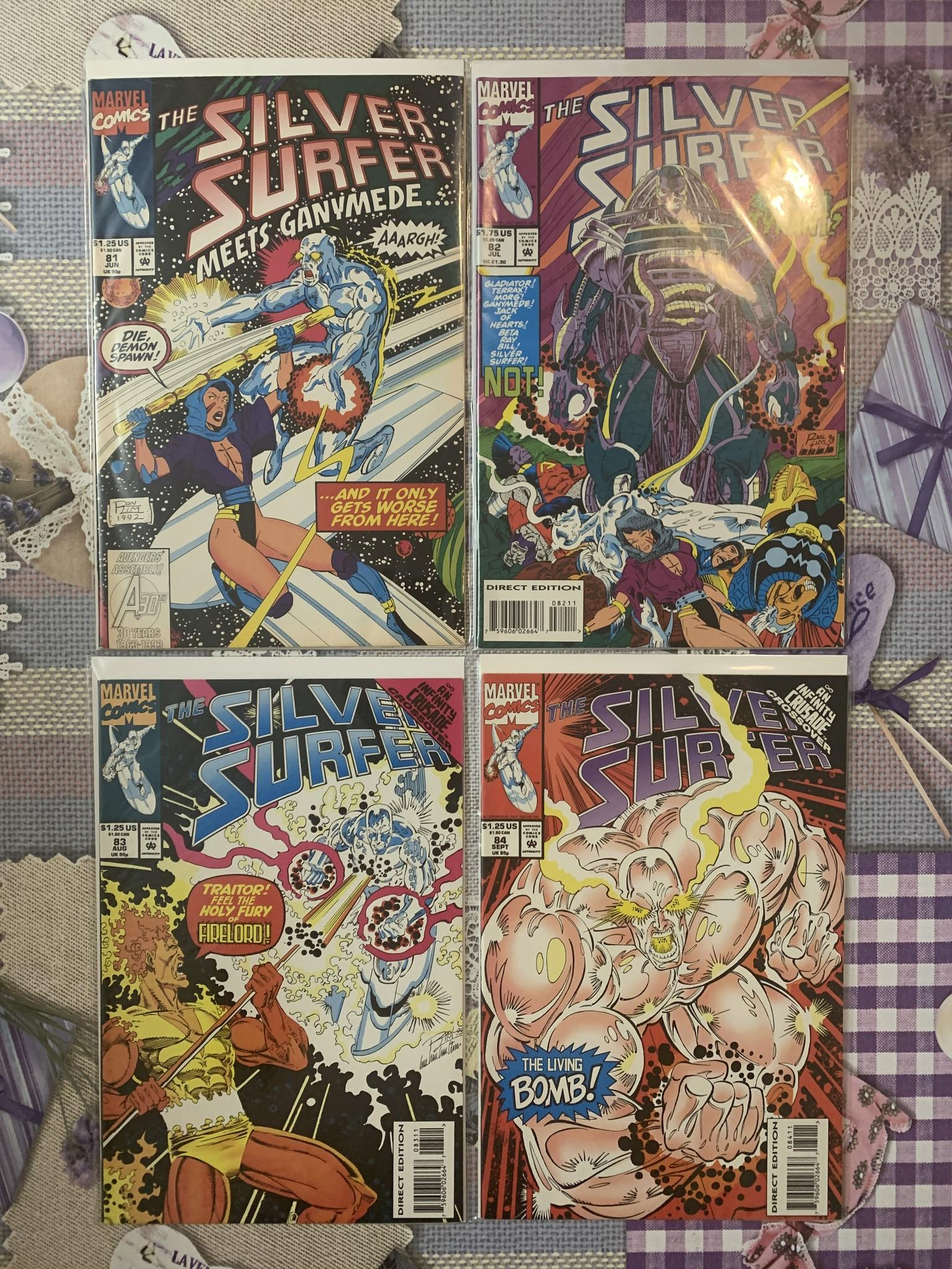comic: (87, 57, 467, 651), (472, 61, 848, 649), (94, 656, 463, 1223), (480, 654, 847, 1223)
